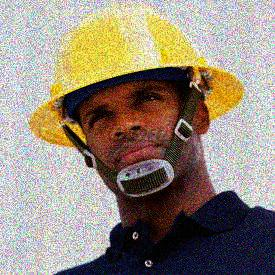helmet: (28, 2, 245, 193)
